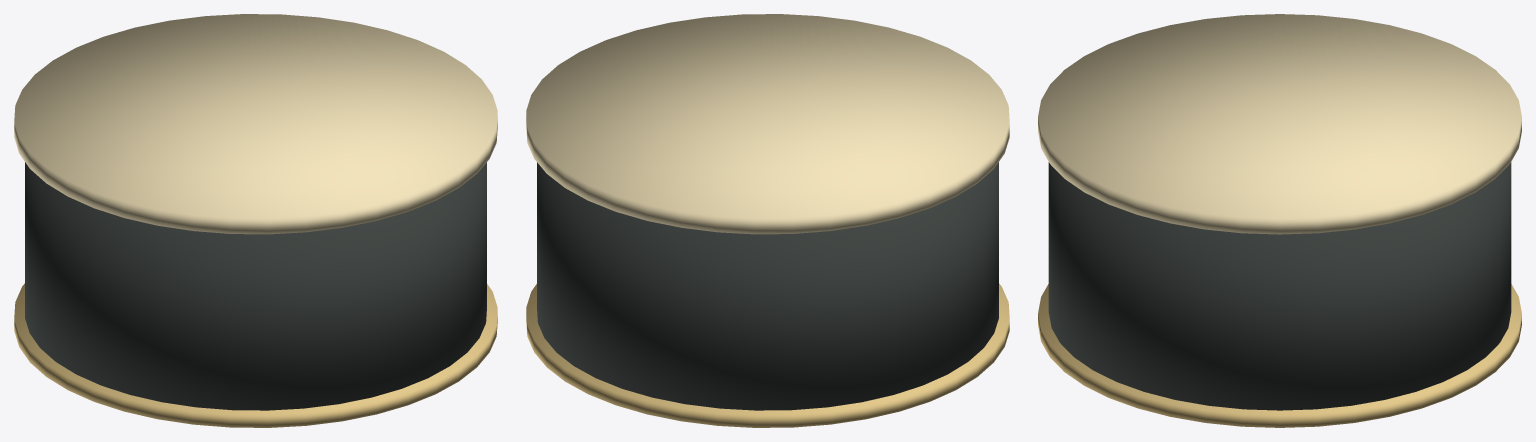
File: podium-single.glb
3 views of the same model, side by side, from view 1: azimuth 30°, elevation 25°; view 2: azimuth 150°, elevation 25°; view 3: azimuth 270°, elevation 25° (orthographic).
Visible parts, largest first — view 1: upper-rim-1, body-0, lower-rim-2; view 2: upper-rim-1, body-0, lower-rim-2; view 3: upper-rim-1, body-0, lower-rim-2.
Boxes of the visible parts, <box> form: upper-rim-1: <box>14,14,497,234</box>; body-0: <box>25,162,486,410</box>; lower-rim-2: <box>14,283,497,427</box>; upper-rim-1: <box>526,14,1009,234</box>; body-0: <box>537,162,998,410</box>; lower-rim-2: <box>526,283,1009,427</box>; upper-rim-1: <box>1038,14,1521,234</box>; body-0: <box>1048,162,1511,410</box>; lower-rim-2: <box>1038,284,1521,427</box>.
Bounding box in the file's own units: 1.36 × 0.65 × 1.36.
